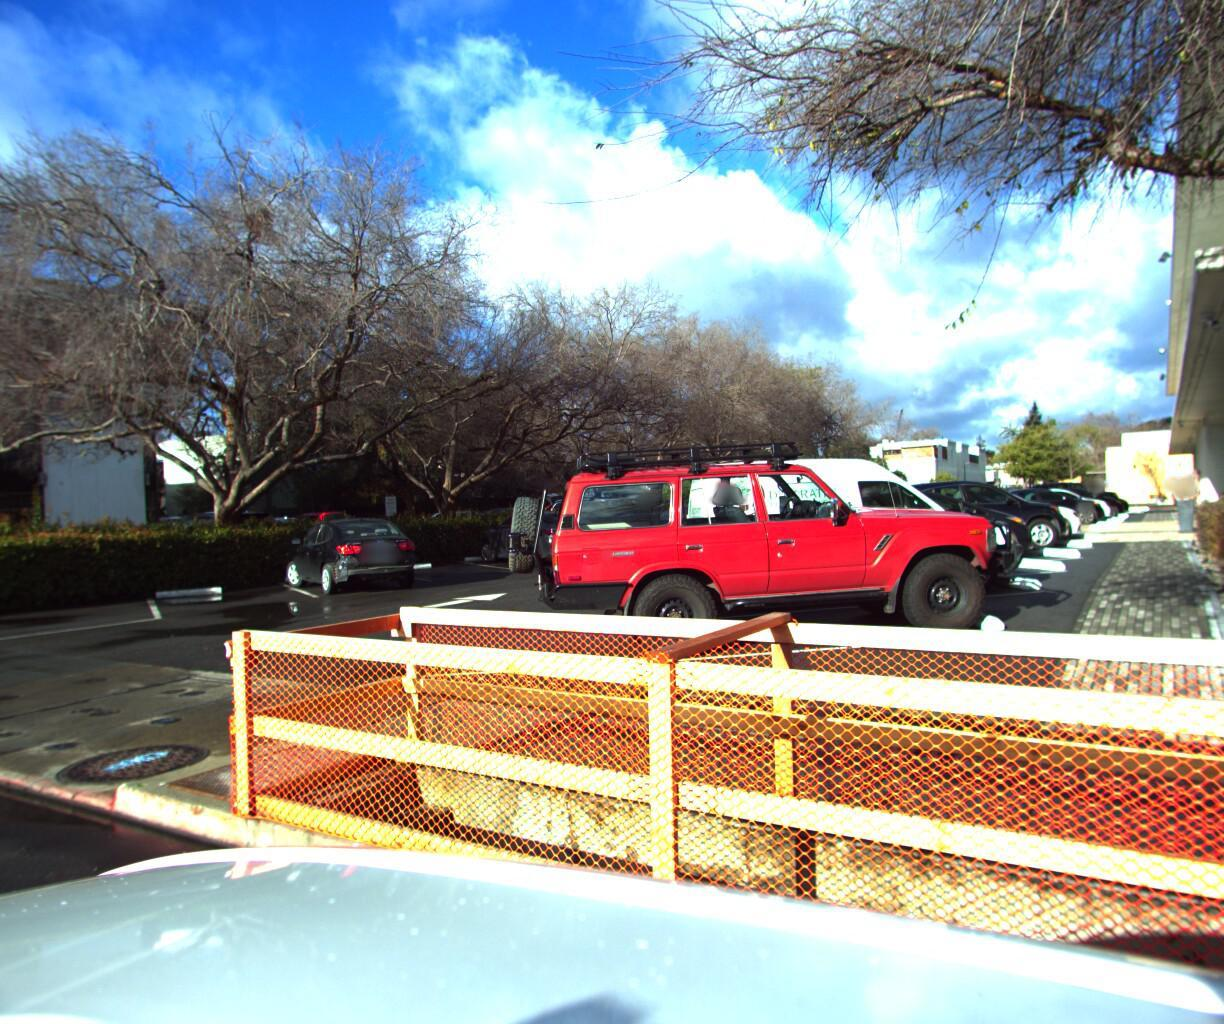car: (501, 429, 1049, 664), (676, 445, 1037, 612), (282, 510, 424, 597)
